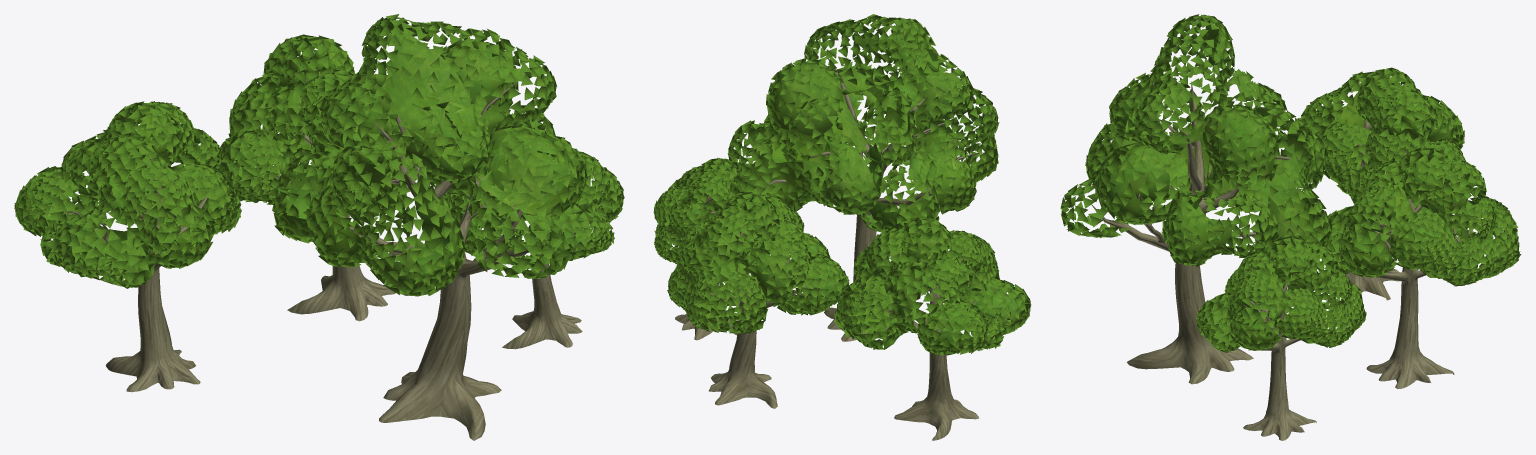
Rendered from SM_ENV_LKNVLD_TreeSet_G.FBX.
3 views of the same model, side by side, from view 1: azimuth 30°, elevation 25°; view 2: azimuth 150°, elevation 25°; view 3: azimuth 270°, elevation 25° (orthographic). The views are drawn at different scales.
Parts seen in each view (by area): view 1: SM_ENV_LKNVLD_TreeSet_G; view 2: SM_ENV_LKNVLD_TreeSet_G; view 3: SM_ENV_LKNVLD_TreeSet_G.
Part boxes in pixels (x1=…): SM_ENV_LKNVLD_TreeSet_G: x1=14, y1=14, x2=624, y2=440; SM_ENV_LKNVLD_TreeSet_G: x1=653, y1=14, x2=1031, y2=440; SM_ENV_LKNVLD_TreeSet_G: x1=1060, y1=14, x2=1521, y2=440.
Size of the model in its own units: 1841 by 1400 by 1749.
